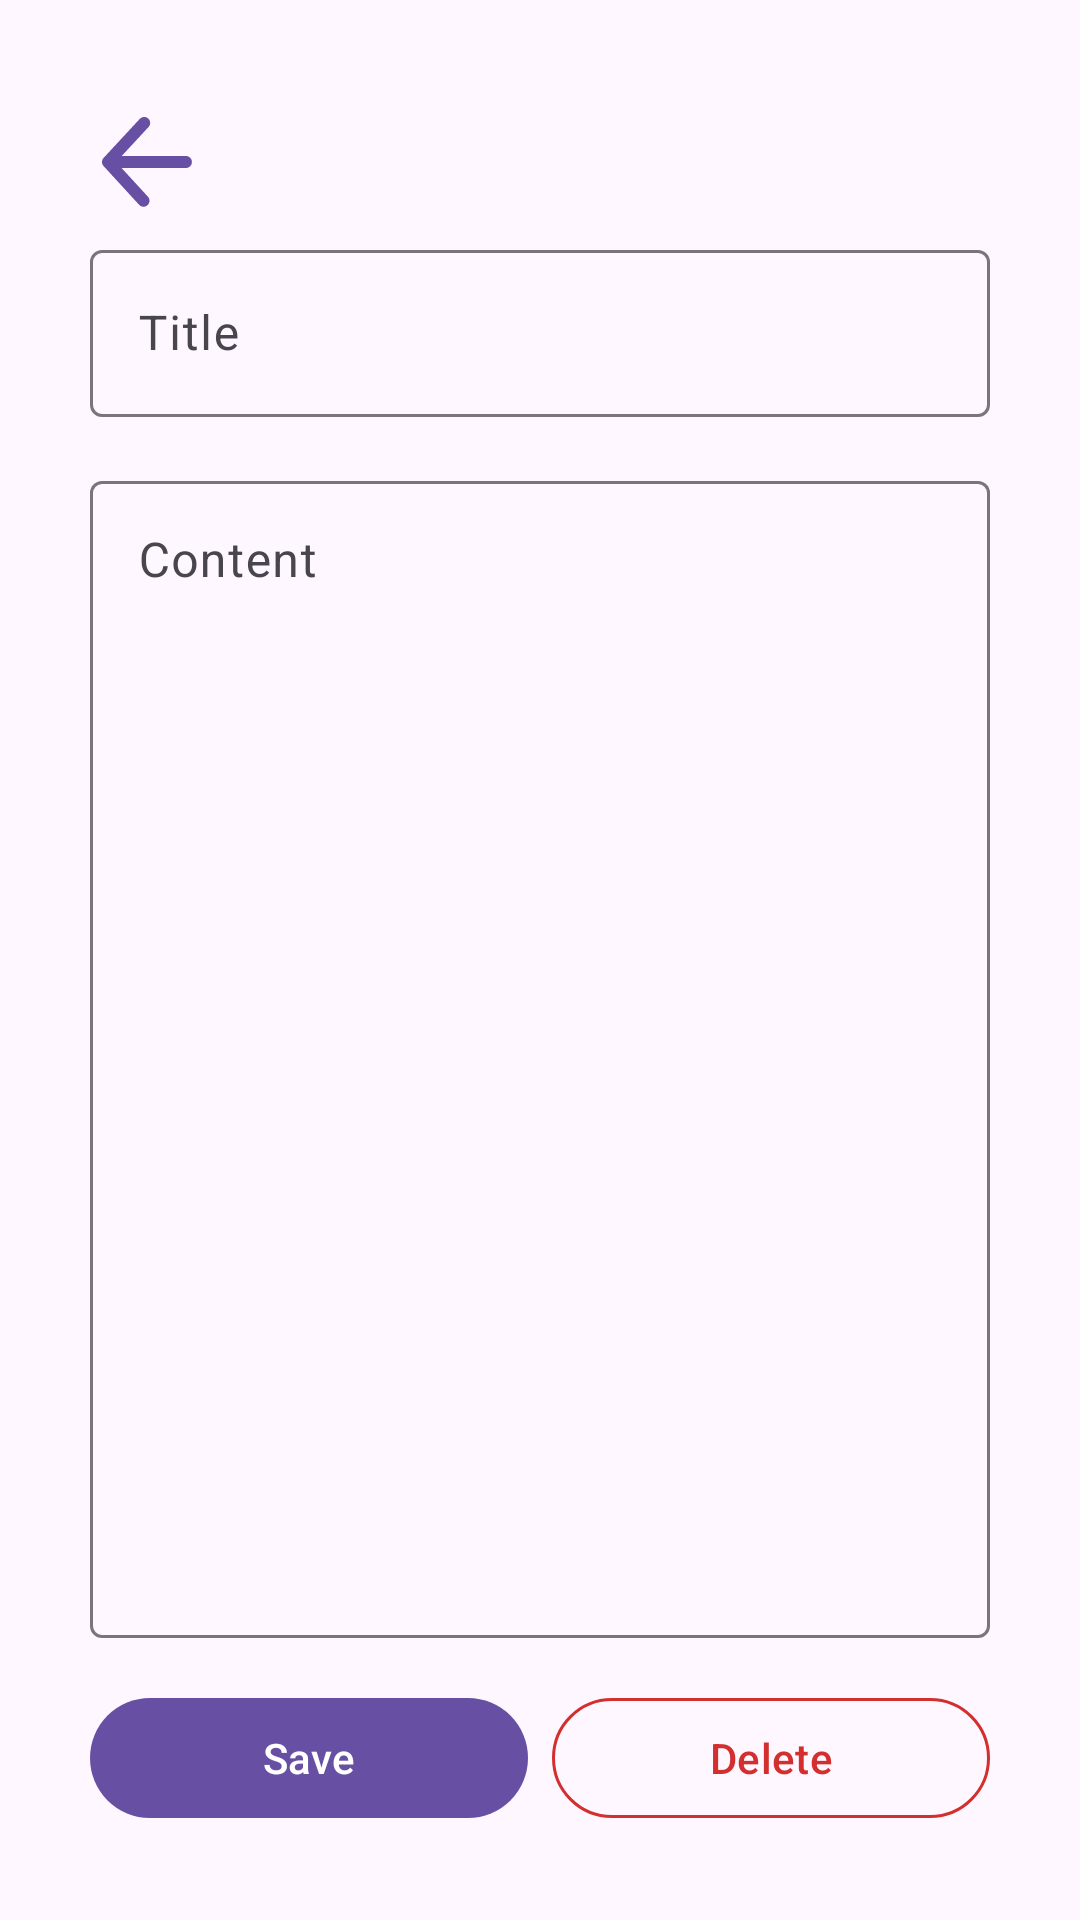

Screen size 1080w x 1920h. Icon name, then its center in pixels as [x,y]:
back: [147,162]
